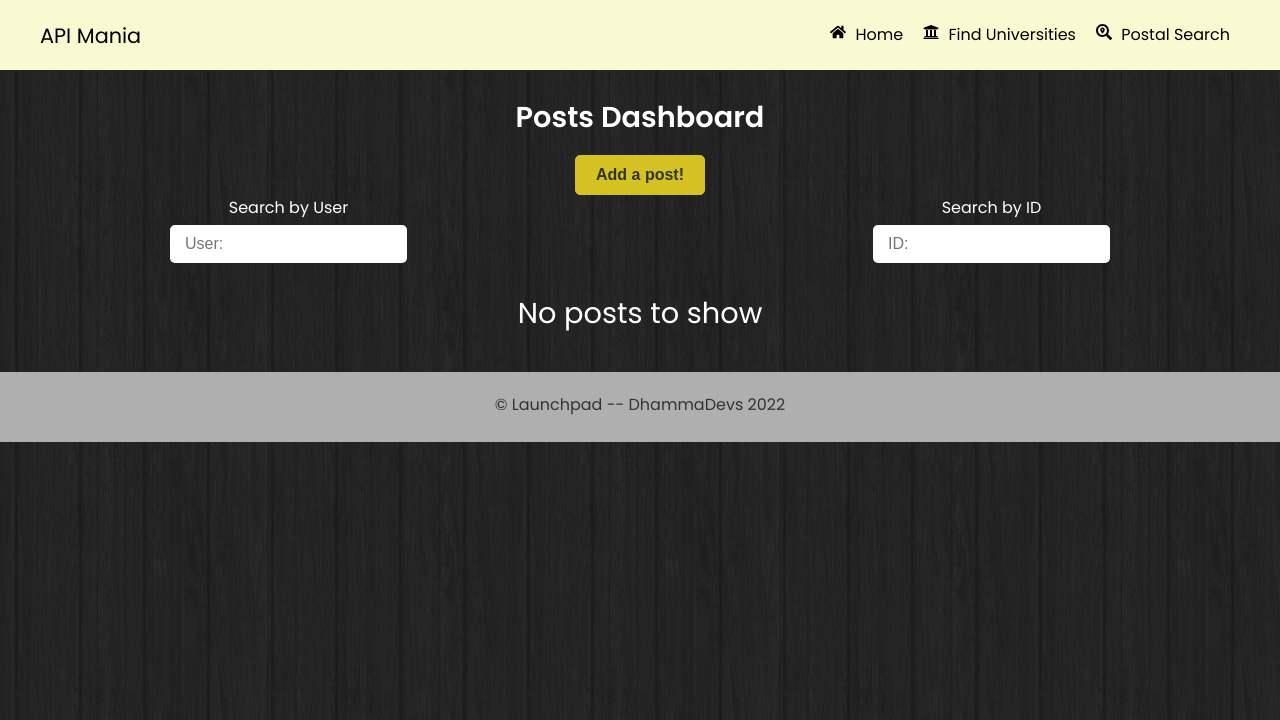
Test: Navbar › should click Postal Search
The width and height of the screenshot is (1280, 720).
Click the link "Postal Search".
click(1163, 35)  # box [1096, 23, 1230, 46]
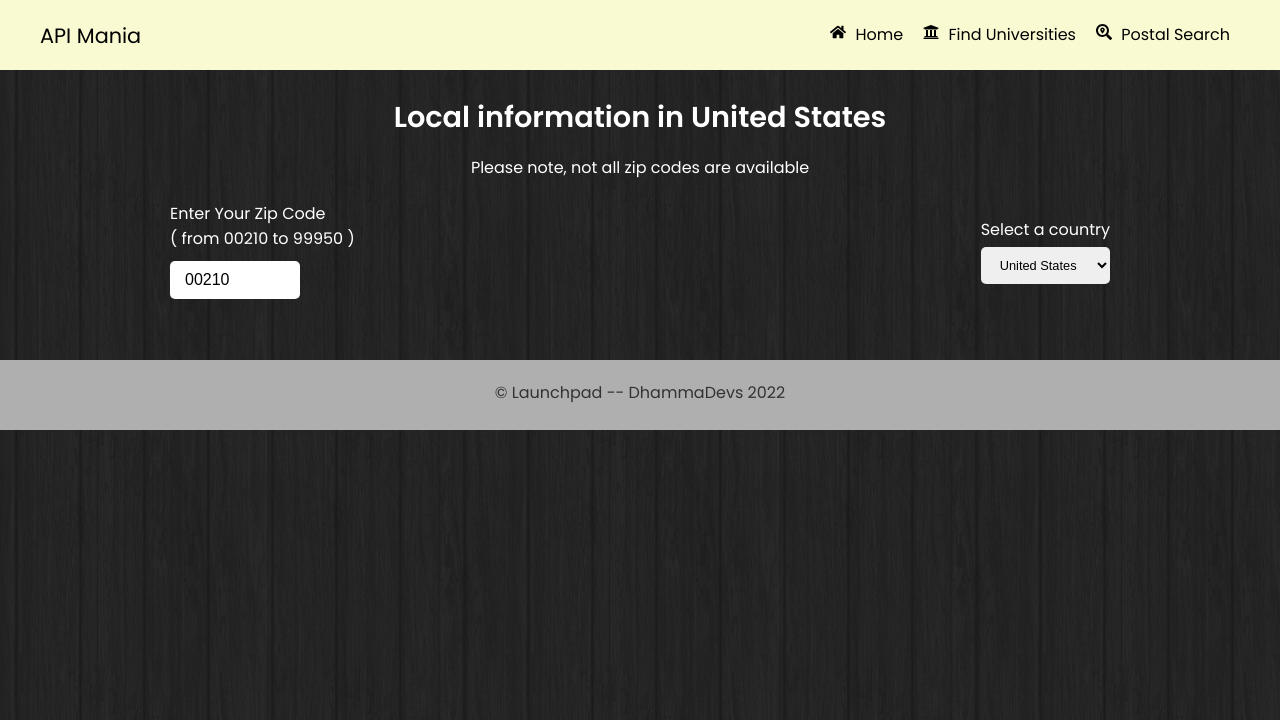
expect the heading "Local information in United States" is shown: met, box [394, 97, 886, 137]
